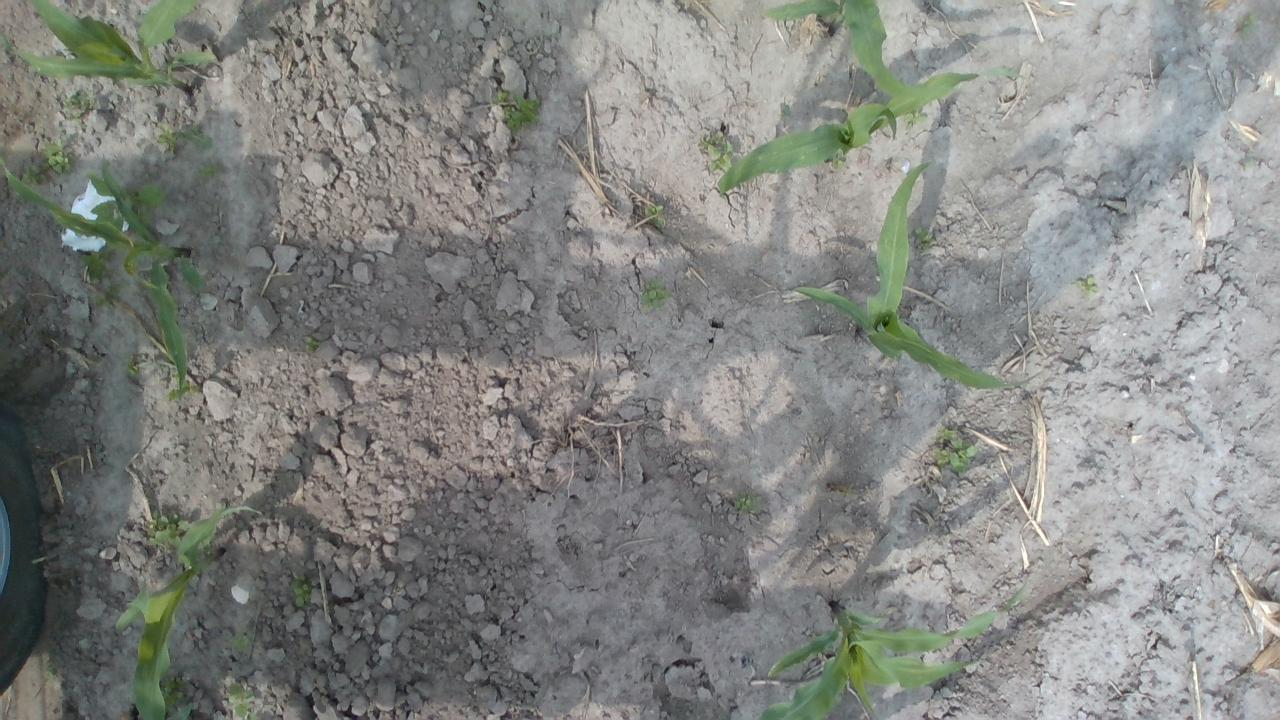Maize: (778, 157, 1045, 392), (3, 156, 208, 398), (716, 68, 1026, 200), (116, 502, 266, 718), (754, 598, 1003, 718), (2, 2, 223, 100), (762, 1, 941, 105)
Weeds: (150, 128, 219, 182), (2, 140, 66, 187), (496, 90, 540, 132), (144, 512, 190, 552), (936, 431, 976, 467), (701, 134, 734, 176), (224, 686, 255, 720), (639, 280, 668, 315), (67, 91, 94, 118), (642, 202, 666, 225), (291, 582, 310, 611), (1077, 272, 1099, 296), (910, 228, 936, 246), (226, 636, 252, 654), (734, 498, 754, 509)
